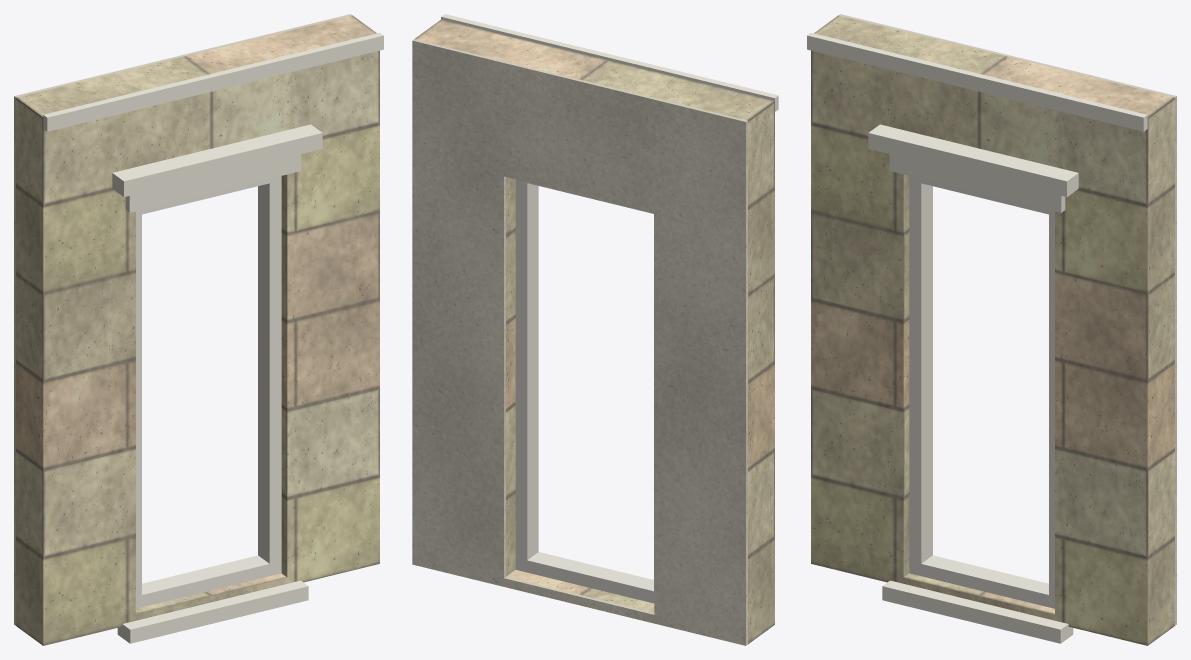
The model's file is wall_ashlar_french.glb.
The picture shows the model from 3 angles, left to right: view 1: azimuth 30°, elevation 25°; view 2: azimuth 150°, elevation 25°; view 3: azimuth 330°, elevation 25°; orthographic projection.
Visible parts, largest first — view 1: wall_ashlar_french_ashlar, wall_ashlar_french_trim, wall_ashlar_french_frame, wall_ashlar_french_plaster; view 2: wall_ashlar_french_plaster, wall_ashlar_french_ashlar, wall_ashlar_french_frame, wall_ashlar_french_trim; view 3: wall_ashlar_french_ashlar, wall_ashlar_french_trim, wall_ashlar_french_frame, wall_ashlar_french_plaster.
Boxes of the visible parts, x1,y1,x2,y2 form: wall_ashlar_french_ashlar: [16, 15, 379, 645]; wall_ashlar_french_trim: [43, 32, 383, 643]; wall_ashlar_french_frame: [136, 176, 281, 608]; wall_ashlar_french_plaster: [14, 14, 352, 625]; wall_ashlar_french_plaster: [412, 39, 747, 645]; wall_ashlar_french_ashlar: [414, 19, 774, 644]; wall_ashlar_french_frame: [515, 179, 654, 603]; wall_ashlar_french_trim: [441, 14, 778, 111]; wall_ashlar_french_ashlar: [811, 15, 1174, 645]; wall_ashlar_french_trim: [807, 32, 1147, 643]; wall_ashlar_french_frame: [909, 176, 1054, 608]; wall_ashlar_french_plaster: [838, 14, 1176, 625].
Size of the model in its own units: 2 by 3.08 by 0.42.
Materials: 4 (2 with a texture image).
